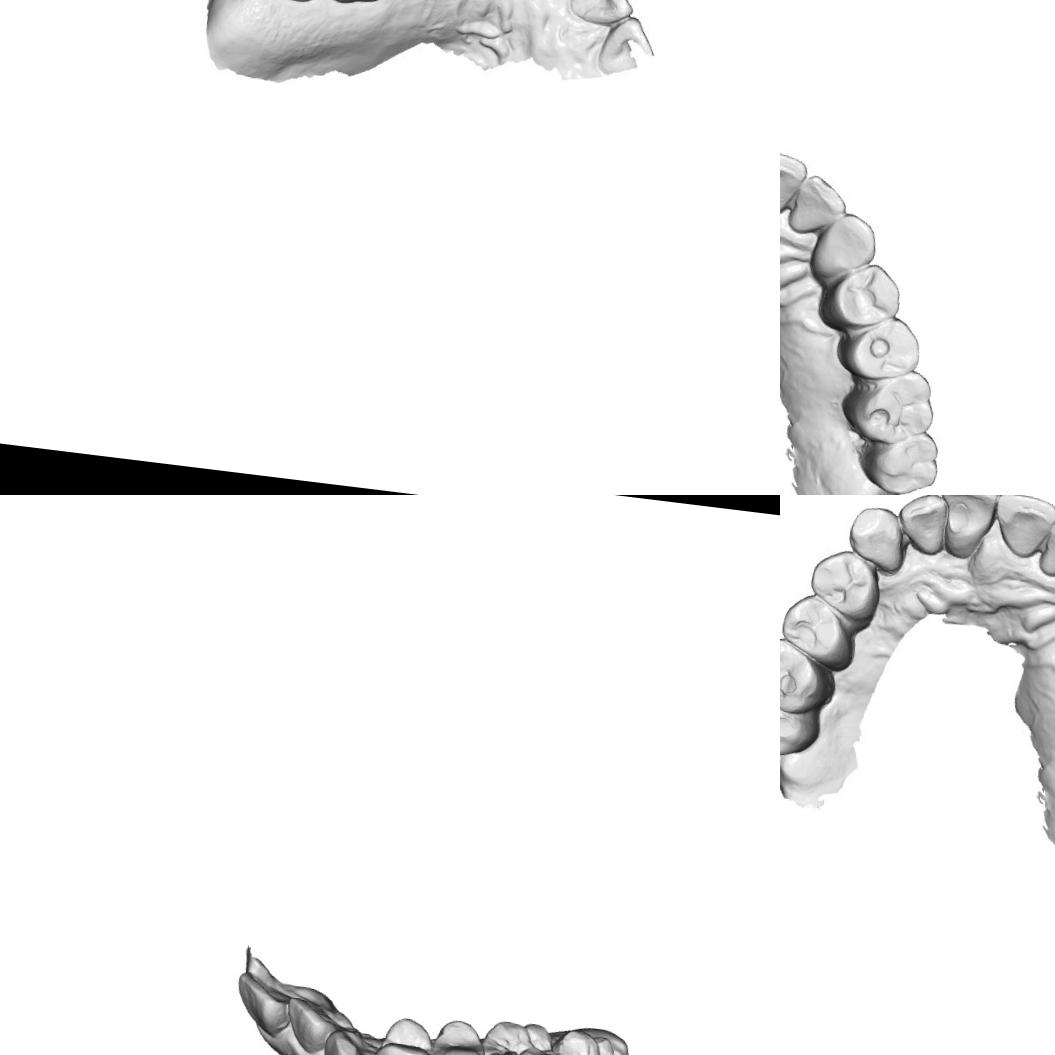canine: (804, 208, 880, 282), (842, 500, 912, 576), (317, 1026, 382, 1055)
incisor: (928, 495, 1002, 564), (782, 170, 848, 242), (232, 970, 298, 1038), (989, 495, 1055, 562), (893, 495, 953, 558), (284, 995, 338, 1054), (780, 147, 810, 219), (570, 0, 635, 26), (1033, 513, 1055, 585)
molar: (839, 362, 936, 449), (855, 421, 943, 495), (780, 633, 837, 718), (477, 1015, 562, 1055), (780, 689, 822, 762), (548, 1022, 632, 1055)
premolar: (836, 307, 927, 386), (824, 257, 909, 337), (804, 545, 886, 626), (780, 591, 858, 669), (370, 1015, 438, 1055), (429, 1014, 490, 1055)
